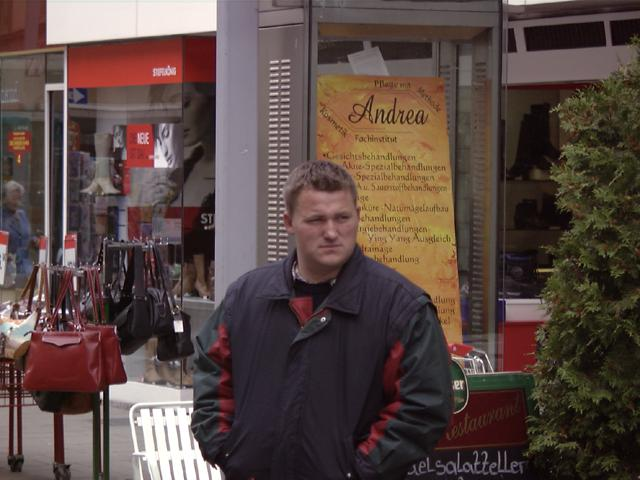Person: (187, 157, 461, 480)
